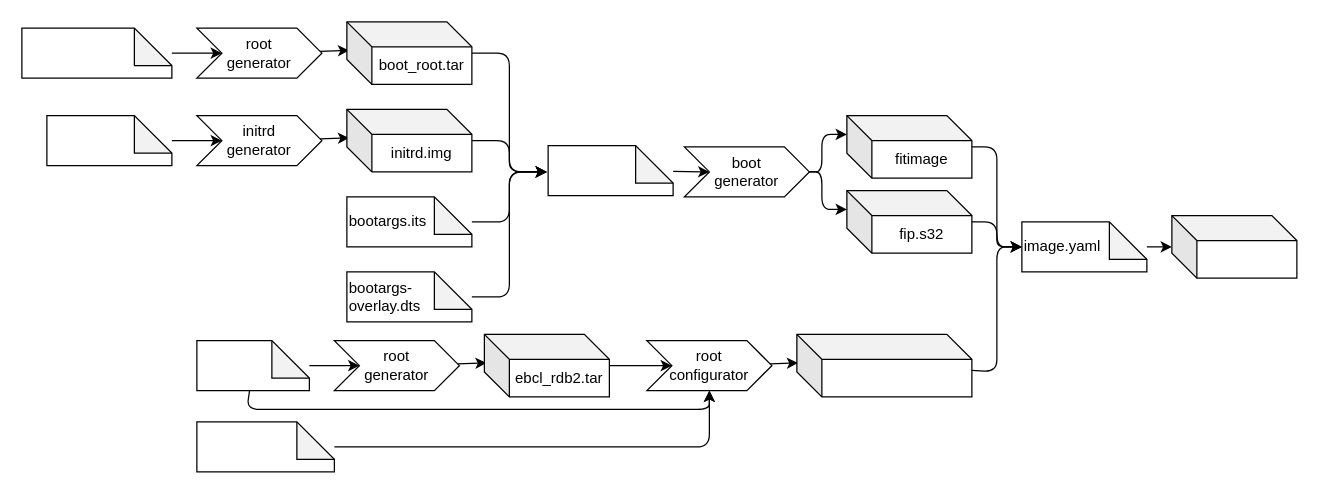
Image size: 1319x494. Some labels were removed from this diagram. Each missing label, with the centre of its shape:
boot.yaml: the point at 610,170
boot_root.yaml: the point at 96,52
config_root.sh: the point at 265,446
ebcl_rdb2.config.tar: the point at 884,365
image.raw: the point at 1234,246
initrd.yaml: the point at 109,140
root.yaml: the point at 252,365
